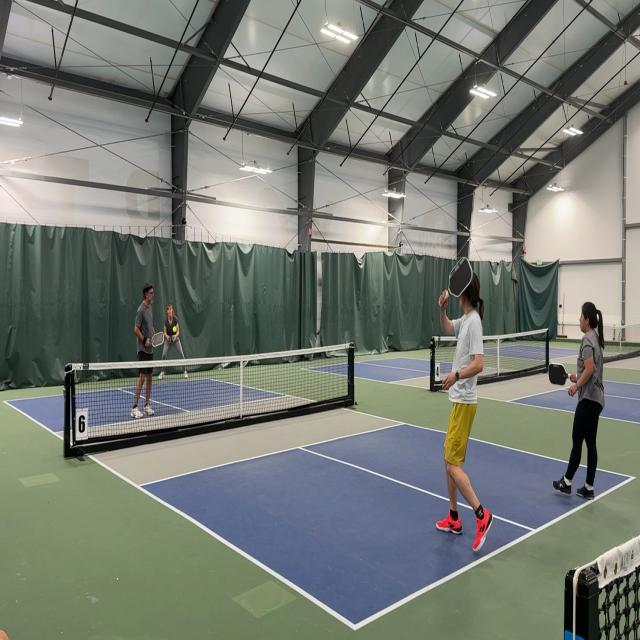ball: (172, 326, 178, 334)
